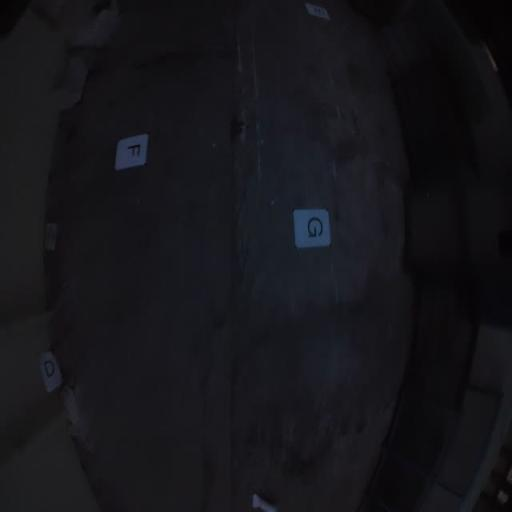D: (40, 350, 62, 393)
F: (114, 133, 149, 171)
G: (293, 209, 331, 249)
